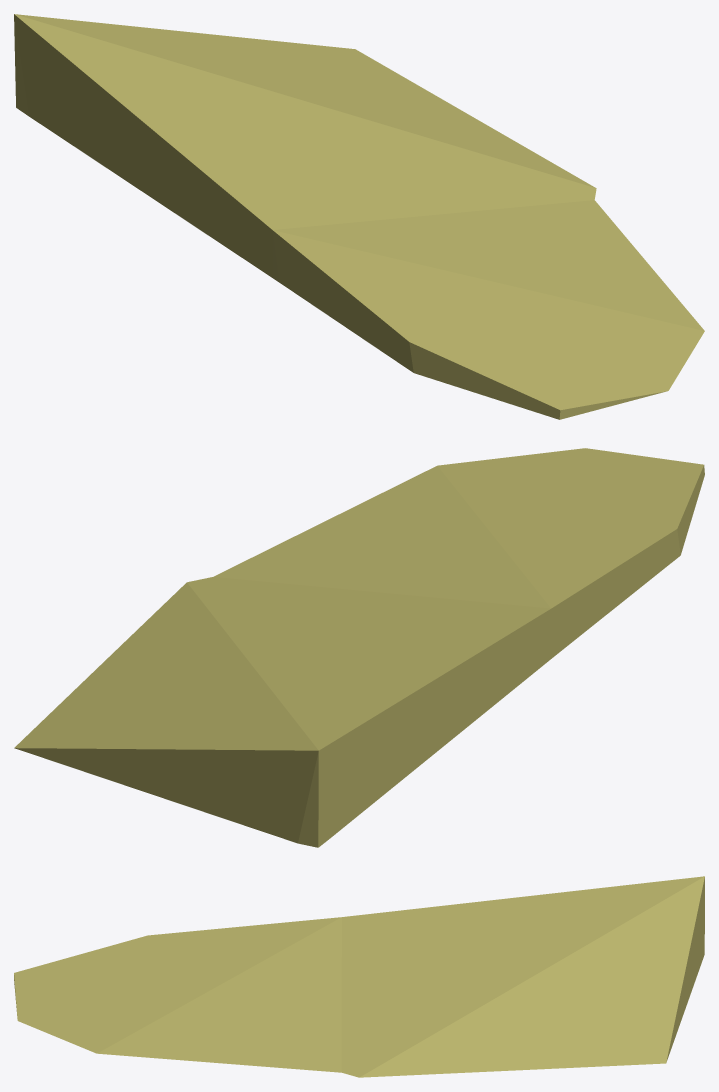
File: Prop_Jungle_Temple_Stepping_Stone_06.FBX
3 views of the same model, one above another, from view 1: azimuth 30°, elevation 25°; view 2: azimuth 150°, elevation 25°; view 3: azimuth 270°, elevation 25° (orthographic). The views are drawn at different scales.
Visible parts, largest first — view 1: Prop_Jungle_Temple_Stepping_Stone_06; view 2: Prop_Jungle_Temple_Stepping_Stone_06; view 3: Prop_Jungle_Temple_Stepping_Stone_06.
Boxes of the visible parts, x1=… form: Prop_Jungle_Temple_Stepping_Stone_06: x1=14, y1=14, x2=704, y2=419; Prop_Jungle_Temple_Stepping_Stone_06: x1=14, y1=448, x2=704, y2=847; Prop_Jungle_Temple_Stepping_Stone_06: x1=14, y1=876, x2=704, y2=1077.
Bounding box in the file's own units: 404 × 102 × 901.
